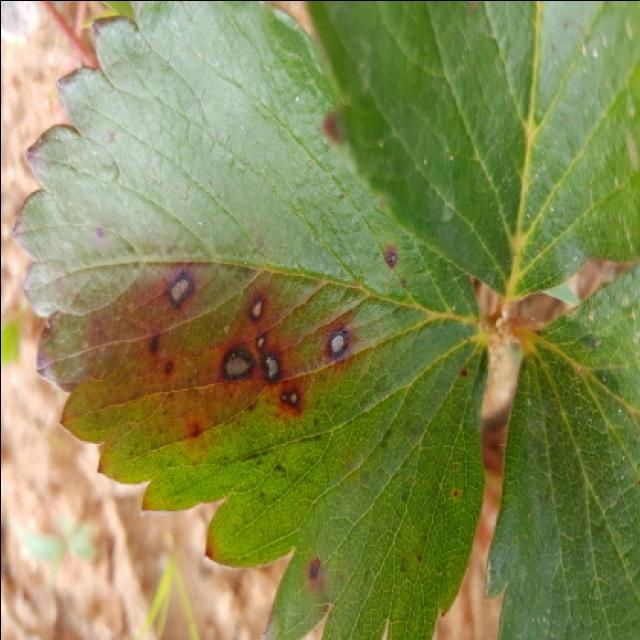Leaf Spot: (13, 2, 490, 640)
